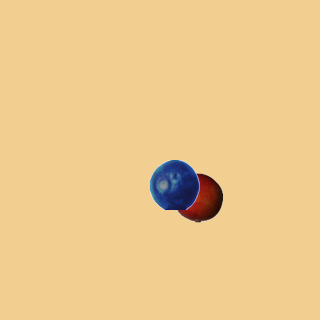Apple Braeburn: (172, 172, 222, 222)
Huckleberry: (149, 159, 199, 209)
